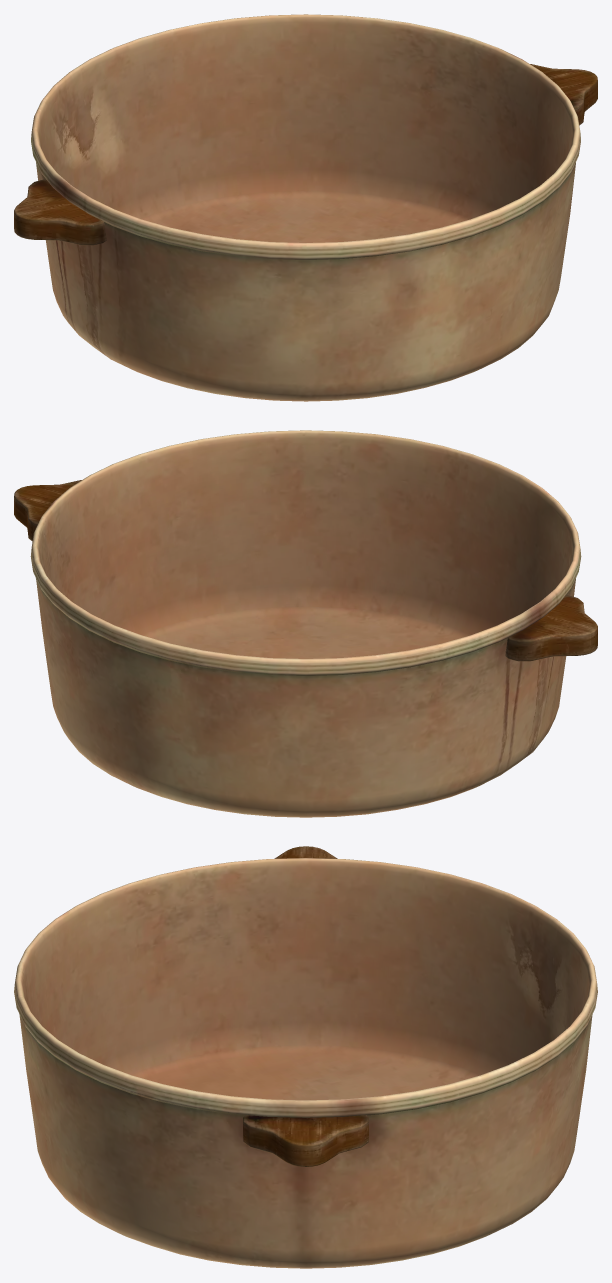
Rendered from pot.glb.
3 views of the same model, one above another, from view 1: azimuth 30°, elevation 25°; view 2: azimuth 150°, elevation 25°; view 3: azimuth 270°, elevation 25° (orthographic). The views are drawn at different scales.
Visible parts, largest first — view 1: brass_pot_02; view 2: brass_pot_02; view 3: brass_pot_02.
Part boxes in pixels (x1,y1,x2,y2): brass_pot_02: [14, 14, 597, 401]; brass_pot_02: [14, 430, 597, 817]; brass_pot_02: [14, 846, 597, 1268].
Bounding box in the file's own units: 0.3666 × 0.1085 × 0.3023.
Materials: 1 (1 with a texture image).
